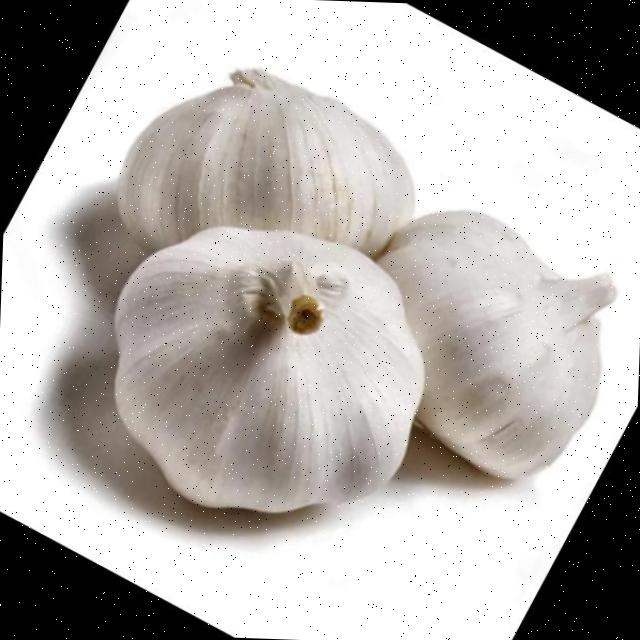garlic: (115, 228, 423, 512), (377, 211, 616, 478), (119, 69, 412, 257)
